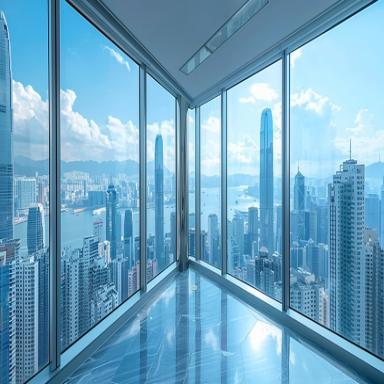glass_panel: (293, 6, 383, 348), (60, 8, 137, 344), (4, 2, 48, 379), (230, 59, 282, 302), (148, 76, 176, 282), (200, 94, 222, 271), (186, 104, 195, 266)
